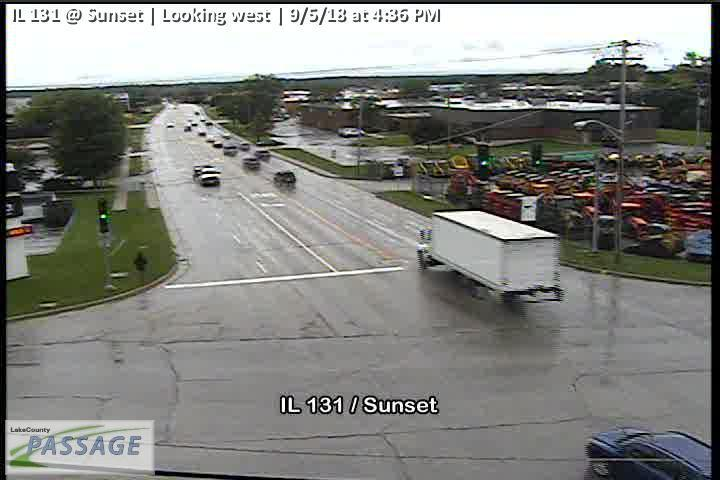SUV: (585, 428, 710, 480), (274, 170, 296, 185), (241, 156, 259, 169), (255, 148, 270, 160), (222, 143, 237, 155), (240, 140, 249, 150)
Sedan: (199, 172, 220, 186)
Truck: (417, 209, 561, 305)
